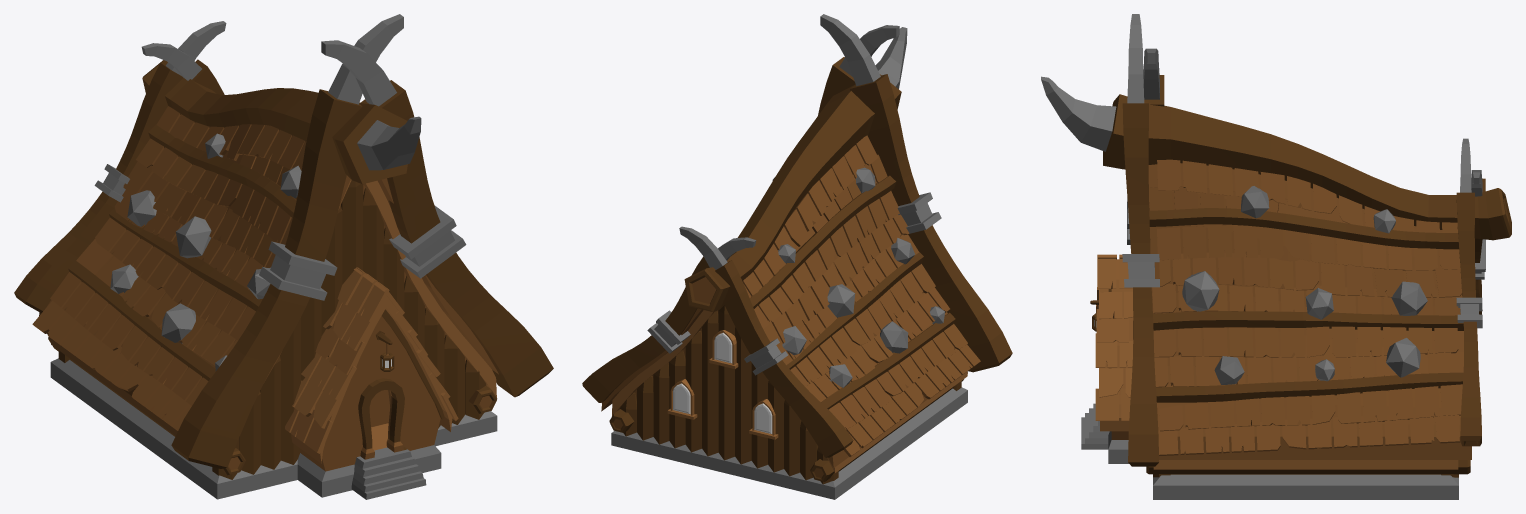
Rendered from B_BaseA.fbx.
3 renders of one model, left to right at view 1: azimuth 30°, elevation 25°; view 2: azimuth 150°, elevation 25°; view 3: azimuth 270°, elevation 25°, orthographic. The views are drawn at different scales.
Visible parts, largest first — view 1: B_BaseA; view 2: B_BaseA; view 3: B_BaseA.
Boxes of the visible parts, <box> form: B_BaseA: <box>14,14,553,499</box>; B_BaseA: <box>582,14,1012,499</box>; B_BaseA: <box>1041,14,1511,499</box>.
Size of the model in its own units: 922 by 1060 by 1120.
